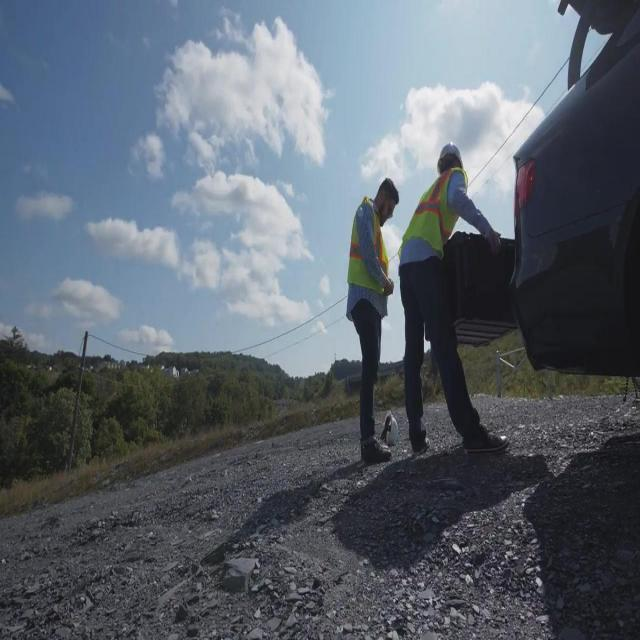reflective_jacket: (396, 165, 469, 270), (336, 189, 397, 312)
safety_helmet: (430, 133, 470, 185), (371, 165, 404, 216)
